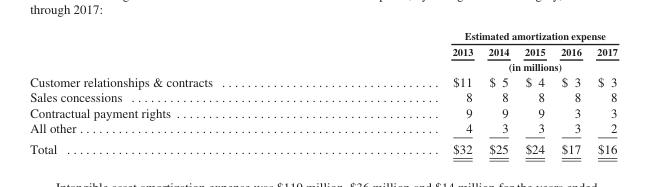table: (29, 29, 617, 155)
table column: (29, 29, 331, 155), (331, 29, 480, 155), (480, 29, 516, 155), (516, 29, 552, 155), (552, 29, 588, 155), (588, 29, 617, 155)
table column header: (29, 29, 617, 73)
table row: (29, 119, 617, 137), (29, 137, 617, 155), (29, 88, 617, 104), (29, 43, 617, 58), (29, 58, 617, 73), (29, 73, 617, 88), (29, 104, 617, 119), (29, 29, 617, 43)
table spanning cell: (331, 58, 617, 73), (331, 29, 617, 43)
